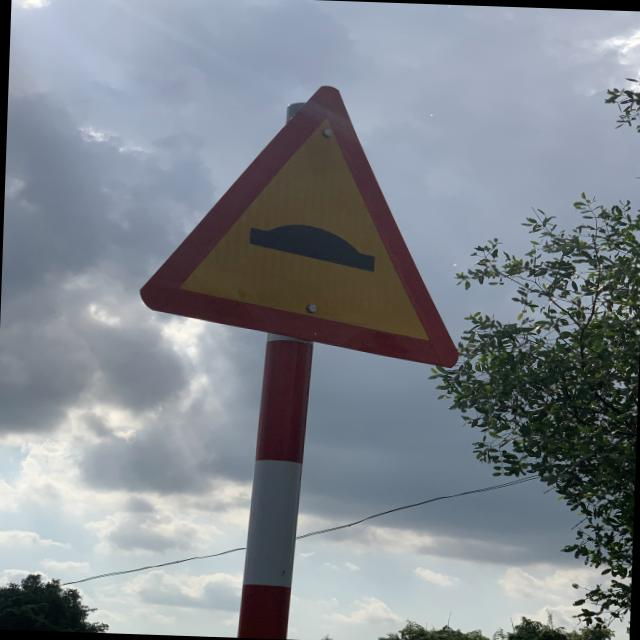Duong_Cong_Ben_Phai: (134, 75, 468, 369)
